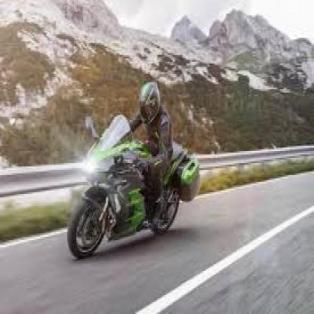Motocicleta: (62, 123, 190, 265)
